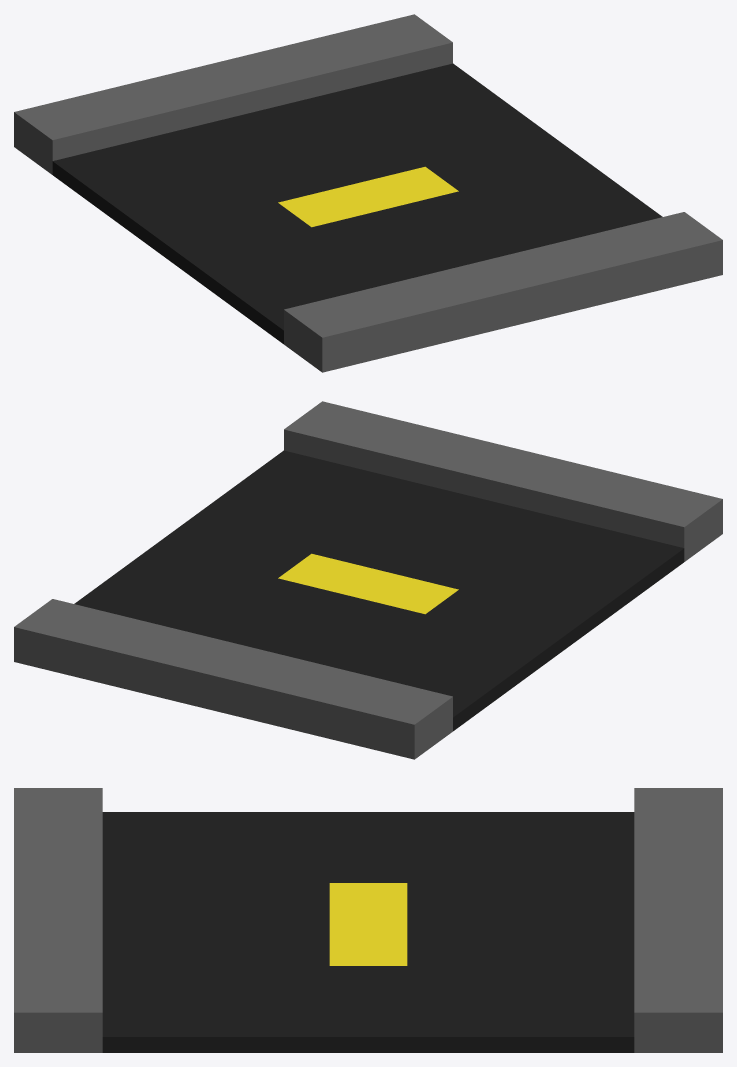
The model's file is Road.fbx.
3 renders of one model, top to bottom at view 1: azimuth 30°, elevation 25°; view 2: azimuth 150°, elevation 25°; view 3: azimuth 270°, elevation 25°, orthographic. The views are drawn at different scales.
Visible parts, largest first — view 1: Road; view 2: Road; view 3: Road.
Boxes of the visible parts, box(x1,y1,x2,y2) form: Road: box(14, 14, 722, 372); Road: box(14, 401, 722, 759); Road: box(14, 788, 722, 1052).
Size of the model in its own units: 60 by 80 by 5.
